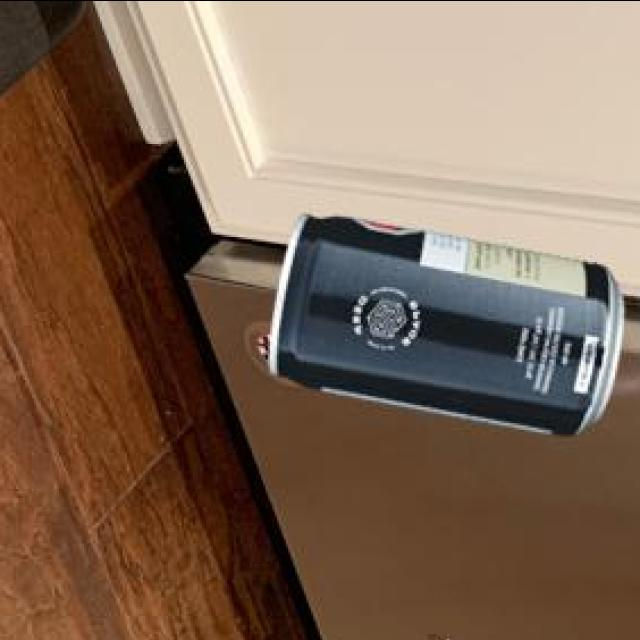logam: (273, 217, 628, 437)
